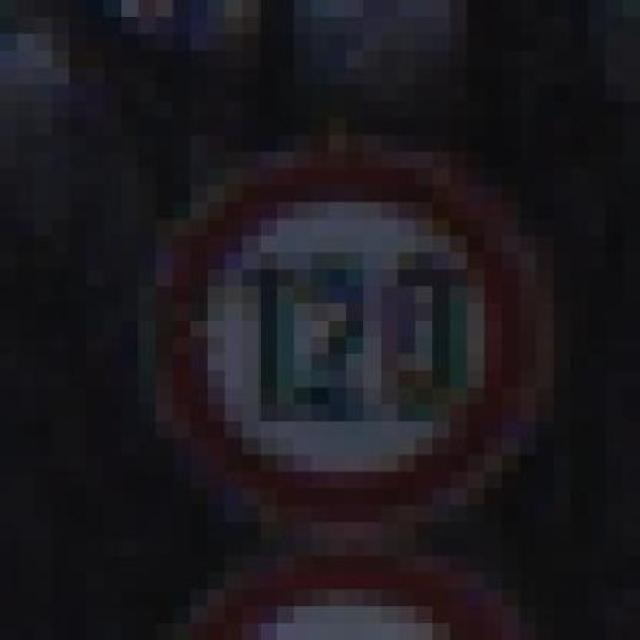forb_speed_over_120: (163, 159, 529, 533)
